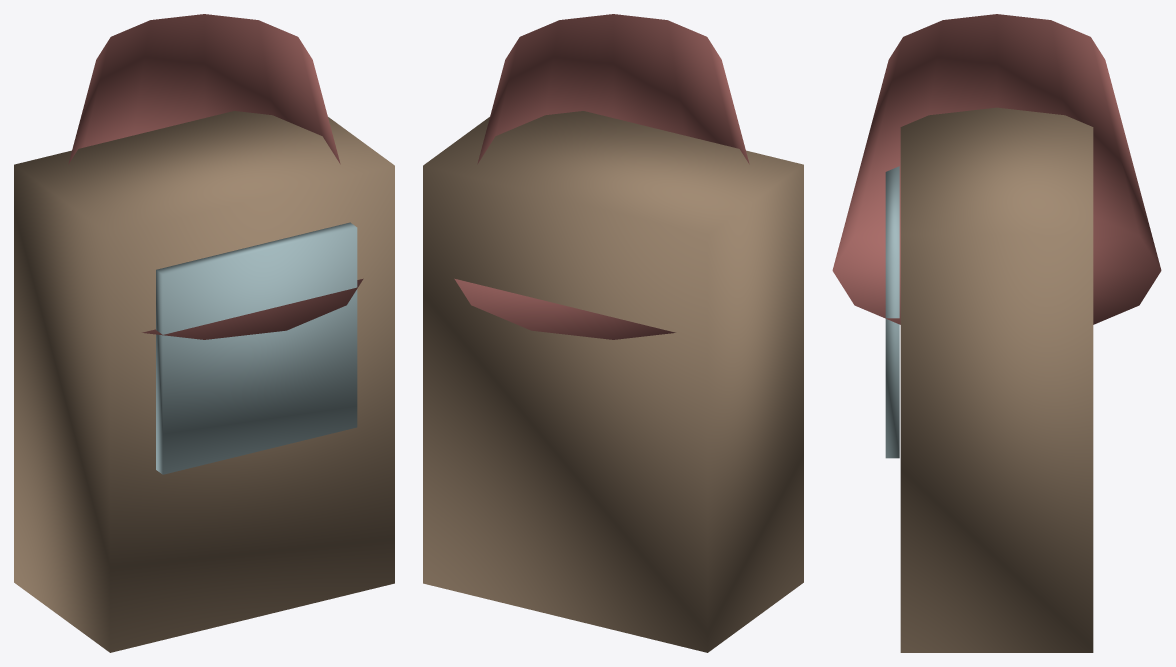
The model's file is jukebox.glb.
3 renders of one model, left to right at view 1: azimuth 30°, elevation 25°; view 2: azimuth 150°, elevation 25°; view 3: azimuth 270°, elevation 25°, orthographic.
Visible parts, largest first — view 1: world; view 2: world; view 3: world.
Part boxes in pixels (<box>): world: <box>14,14,394,652</box>; world: <box>423,14,803,652</box>; world: <box>832,14,1161,652</box>.
Bounding box in the file's own units: 0.82 × 1.44 × 0.82.
